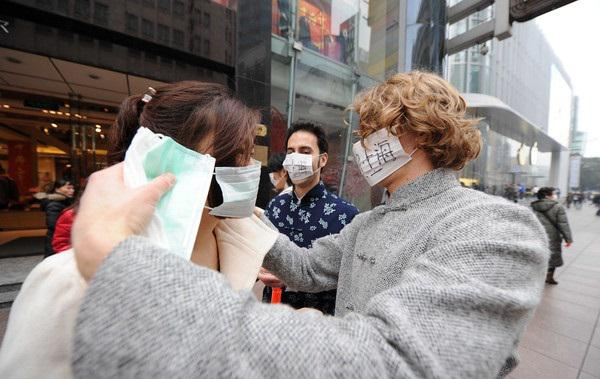NONE: (64, 187, 75, 199)
OK: (200, 135, 264, 216), (283, 143, 324, 184)
WRONG: (354, 117, 427, 185)
